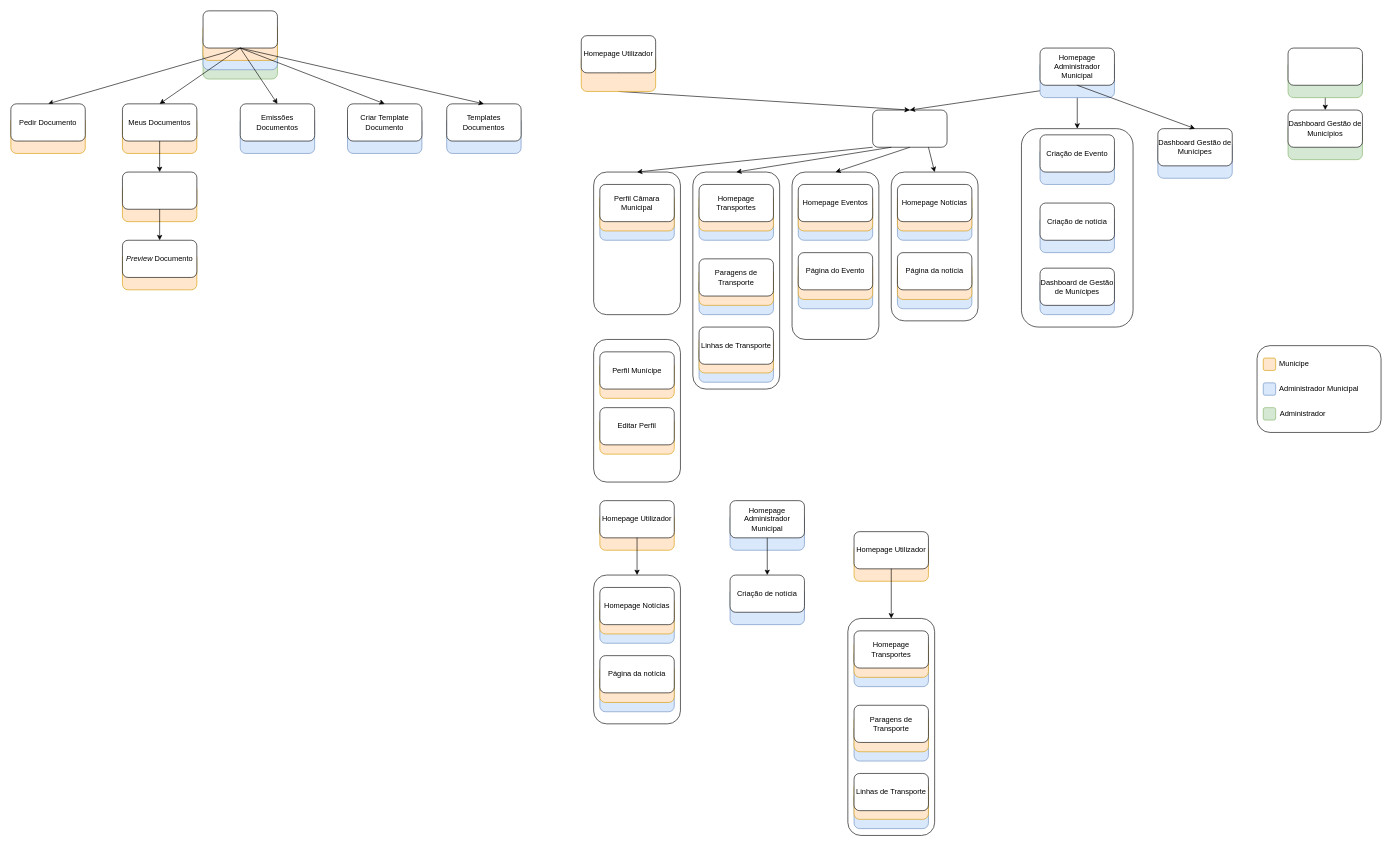
This 1392x846 diagram has some shape labels left out. Here are the shapes that lost their labels. From the top down, the centre of each, then its label:
(x=239, y=29): Homepage Documentos
(x=1324, y=66): Homepage Administrador
(x=909, y=128): Header
(x=159, y=190): Pagamento
